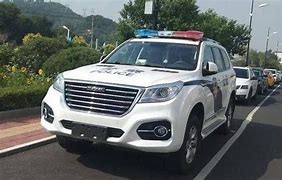specialcar: (48, 19, 237, 164)
